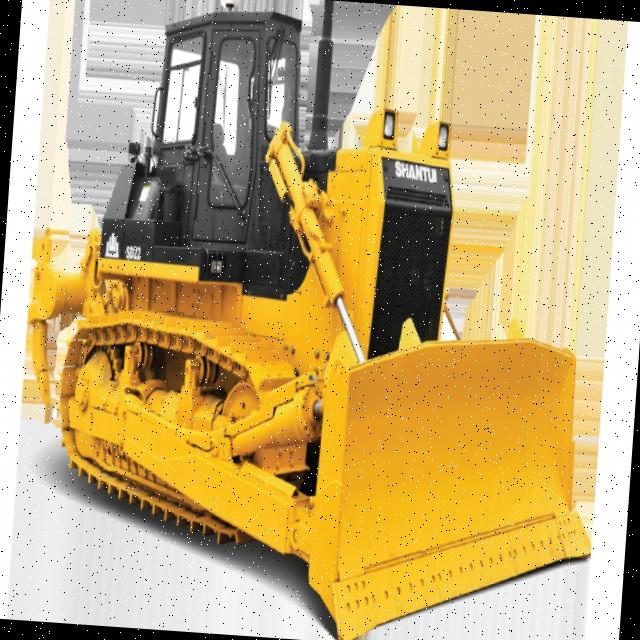Bulldozer: (4, 0, 633, 640)
